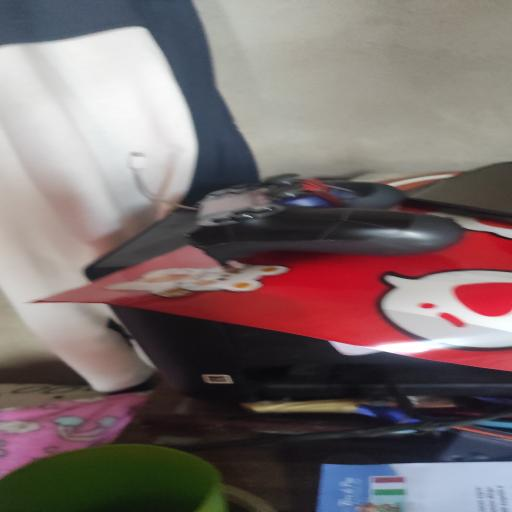ControlPlay4: (188, 174, 464, 263)
